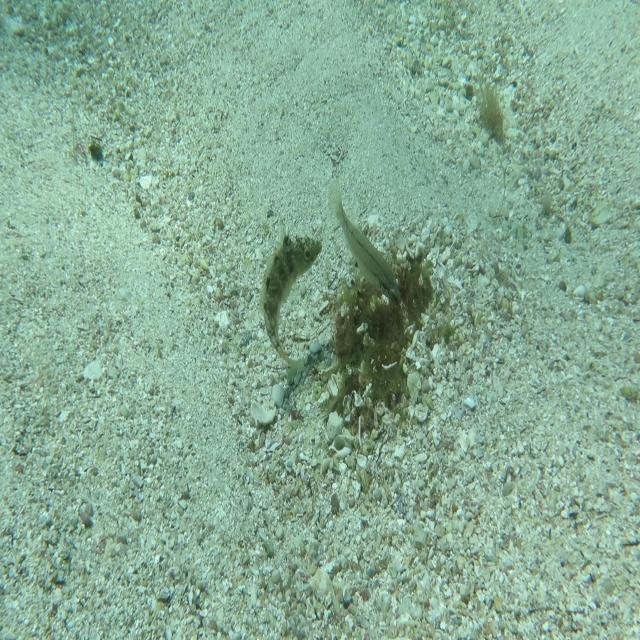BEND: (258, 220, 324, 376)
female: (327, 175, 403, 308)
nest: (324, 228, 454, 432)
